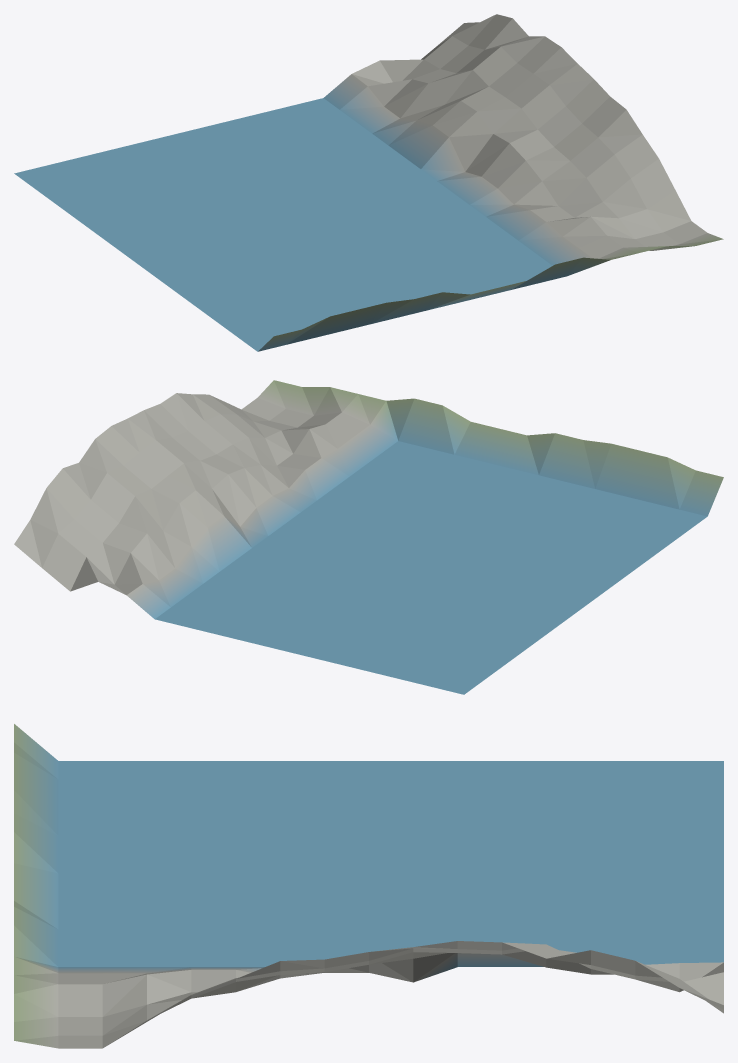
3 views of the same model, one above another, from view 1: azimuth 30°, elevation 25°; view 2: azimuth 150°, elevation 25°; view 3: azimuth 270°, elevation 25° (orthographic). The views are drawn at different scales.
Bounding box in the file's own units: 32 × 5.97 × 32.
